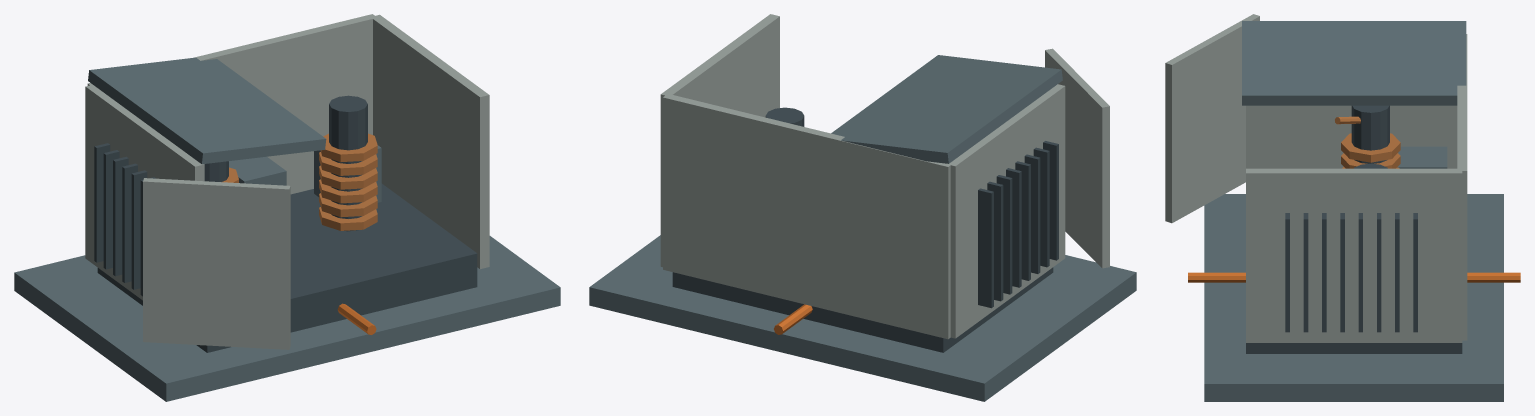
Rendered from solar_power_station_d2.glb.
3 views of the same model, side by side, from view 1: azimuth 30°, elevation 25°; view 2: azimuth 150°, elevation 25°; view 3: azimuth 270°, elevation 25° (orthographic).
Visible parts, largest first — view 1: SOLAR_GAME_MESH; view 2: SOLAR_GAME_MESH; view 3: SOLAR_GAME_MESH.
Boxes of the visible parts, left/top/right/bottom form: SOLAR_GAME_MESH: left=14, top=14, right=560, bottom=401; SOLAR_GAME_MESH: left=589, top=14, right=1136, bottom=401; SOLAR_GAME_MESH: left=1165, top=14, right=1520, bottom=401.
Size of the model in its own units: 5.4 by 2.89 by 4.27.
